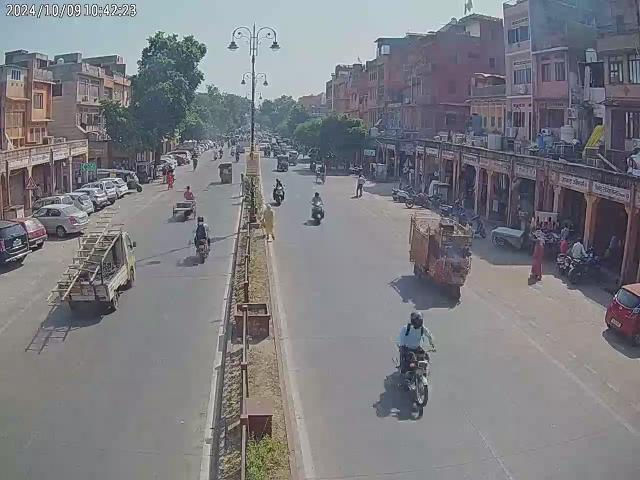auto: (218, 162, 233, 184), (276, 153, 289, 172)
car: (605, 280, 640, 348), (30, 199, 90, 238), (75, 176, 127, 200)
helmet: (410, 310, 426, 328), (196, 215, 203, 224)
lorry: (56, 222, 136, 318), (407, 208, 472, 300)
motorbike: (566, 252, 606, 284)
motorbike-rider: (392, 310, 436, 414), (191, 216, 211, 262)
person: (530, 234, 544, 286), (571, 235, 587, 261), (354, 172, 364, 198), (167, 170, 175, 190)
scooty: (392, 186, 414, 204)
scooty-rider: (310, 190, 324, 224), (273, 178, 286, 205)
